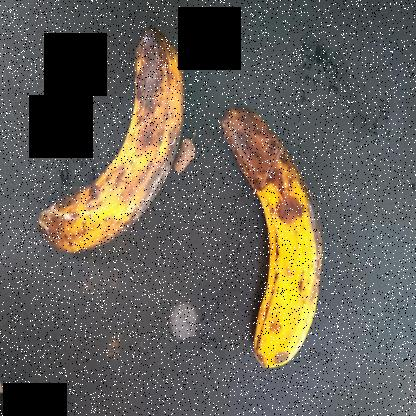rotten: (21, 19, 197, 270), (212, 112, 326, 384)
